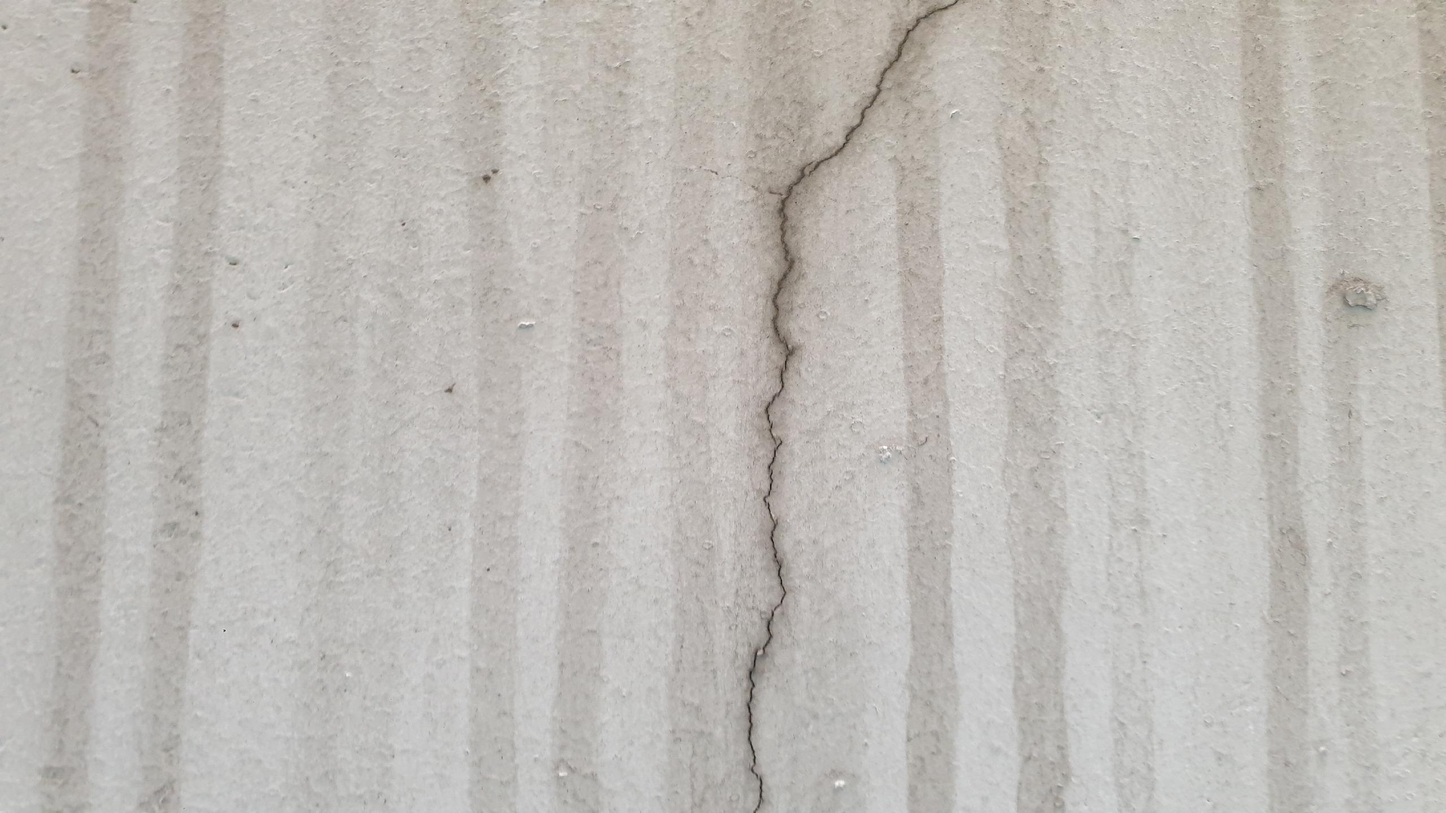crack: (745, 0, 955, 812)
